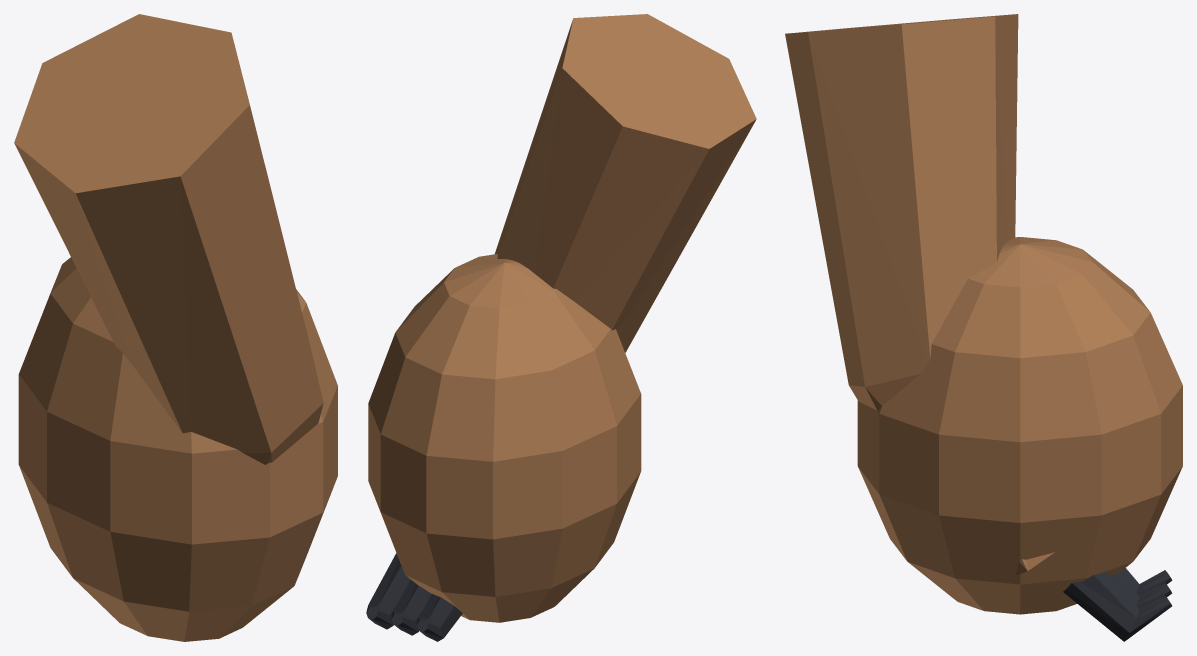
File: gorehulk_e_arm_1.obj
3 renders of one model, left to right at view 1: azimuth 30°, elevation 25°; view 2: azimuth 150°, elevation 25°; view 3: azimuth 270°, elevation 25°, orthographic. The views are drawn at different scales.
Parts seen in each view (by area): view 1: gorehulk_e_arm_1; view 2: gorehulk_e_arm_1; view 3: gorehulk_e_arm_1.
Part boxes in pixels (x1,y1,x2,y2): gorehulk_e_arm_1: [14, 14, 337, 641]; gorehulk_e_arm_1: [366, 14, 756, 641]; gorehulk_e_arm_1: [785, 14, 1182, 641].
Size of the model in its own units: 0.4612 by 0.8583 by 0.5367.
